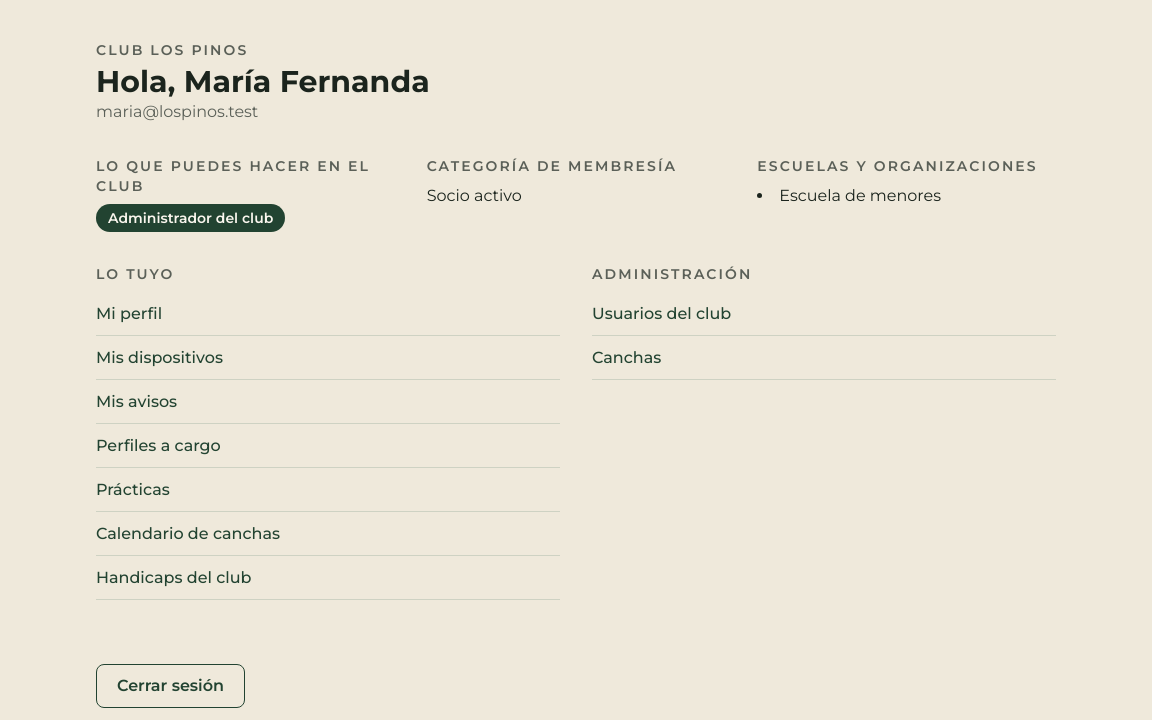
Test case: Panel propio (T-127, HU-010-04) › cerrar sesión devuelve a la pantalla de ingreso
The width and height of the screenshot is (1152, 720).
Click the button "Cerrar sesión" at (170, 686), box [96,664,245,708]
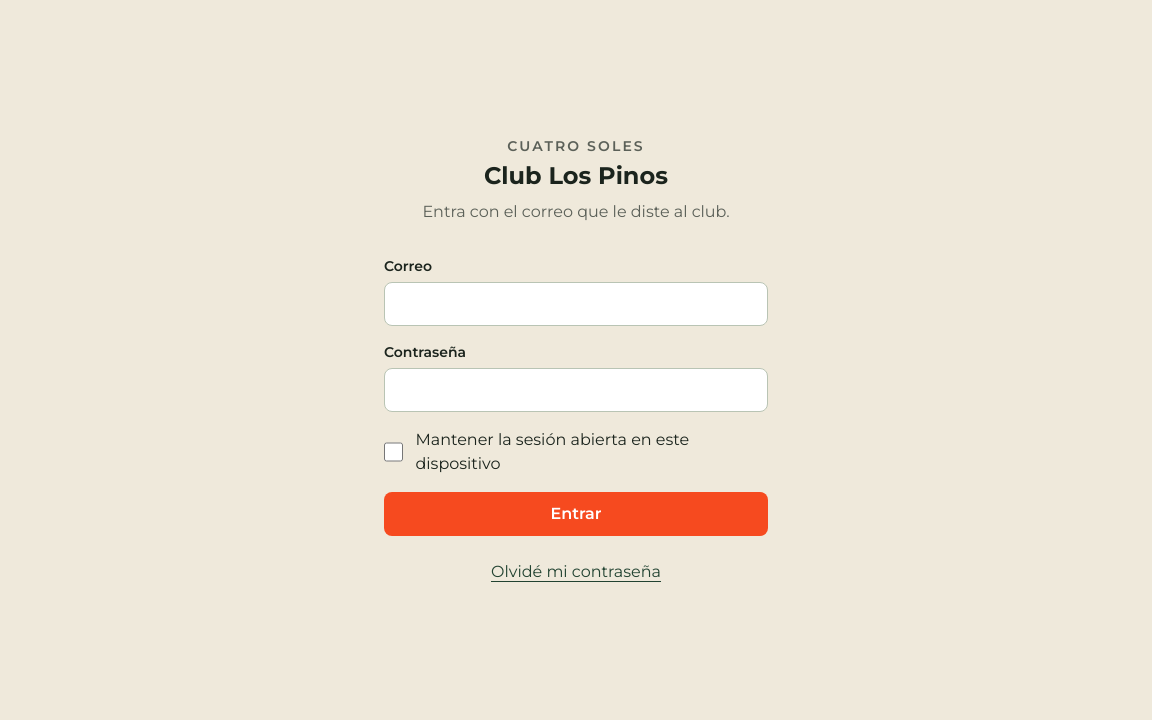
Expected: the password field labelled "Contraseña" is shown, [384,368,768,412]
